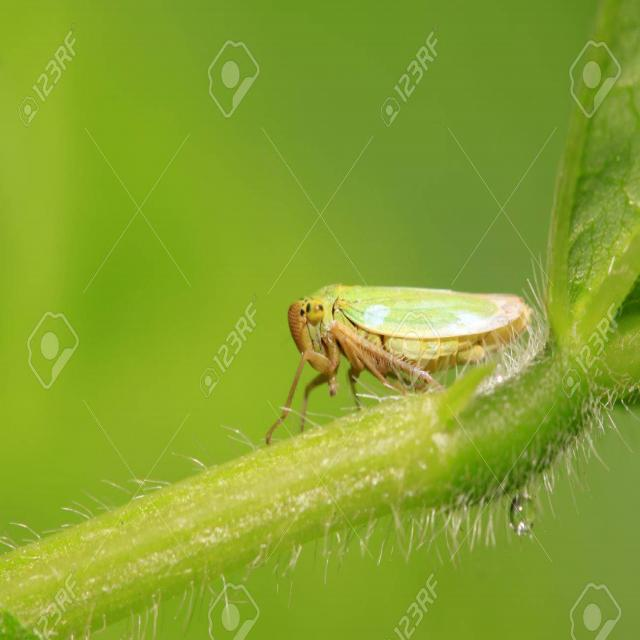Yechan: (277, 273, 539, 406)
